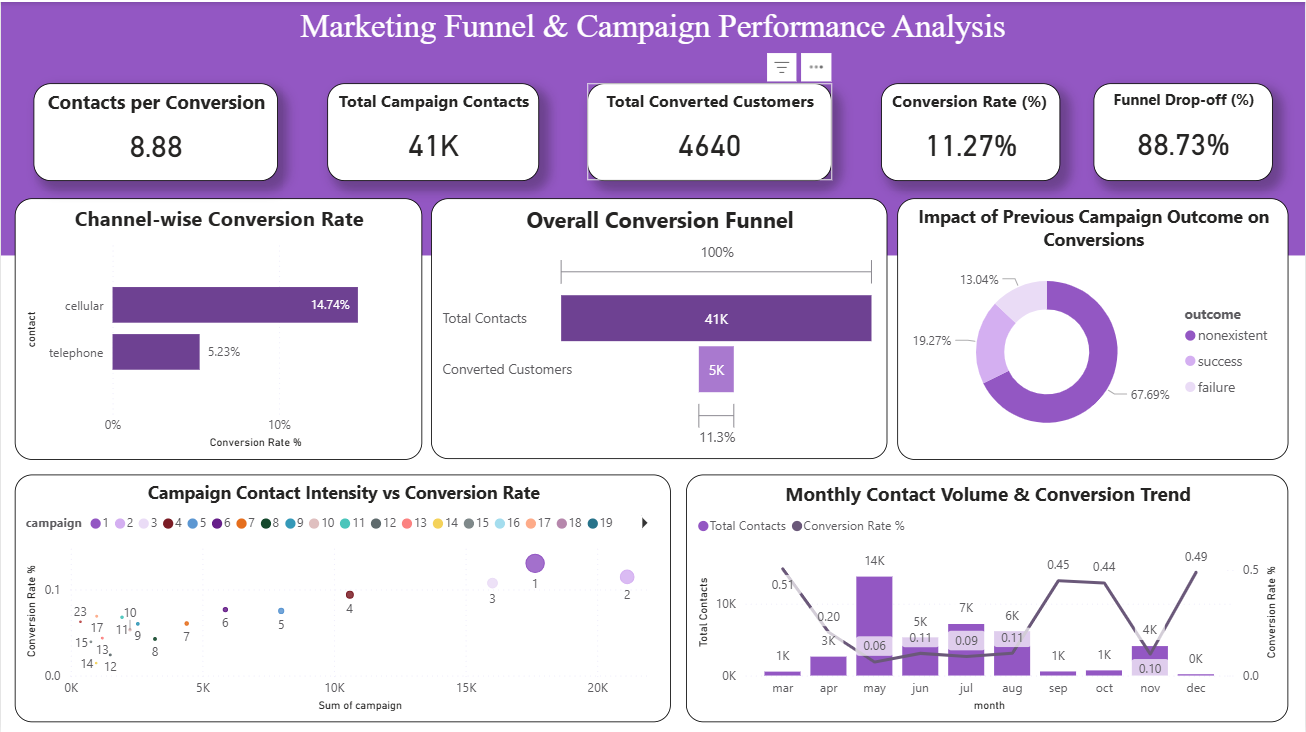

The dashboard page shown, as its layout file describes it:
{"tool":"powerbi","page":{"name":"Page 1","canvas":[1280,720],"ordinal":0},"visuals":[{"type":"textbox","box":[0,0,1279.8,249.1],"z":0},{"type":"card","title":"Total Campaign Contacts","fields":{"Values":["bank-additional-full.Total Contacts"]},"box":[320,80,208,96],"z":1000},{"type":"card","title":"Total Converted Customers","fields":{"Values":["bank-additional-full.Converted Customers"]},"box":[576,80,240,96],"z":2000},{"type":"card","title":"Conversion Rate (%)","fields":{"Values":["bank-additional-full.Conversion Rate %"]},"box":[864,80,176,96],"z":3000},{"type":"card","title":"Funnel Drop-off (%)","fields":{"Values":["bank-additional-full.Drop-off %"]},"box":[1072,80,176,96],"z":4000},{"type":"funnel","title":"Overall Conversion Funnel","fields":{"Y":["bank-additional-full.Total Contacts","bank-additional-full.Converted Customers"]},"box":[421.8,192.7,448.2,256.4],"z":5000},{"type":"clusteredBarChart","title":"Channel-wise Conversion Rate","fields":{"Category":["bank-additional-full.contact"],"Y":["bank-additional-full.Conversion Rate %"]},"box":[13.5,192.6,400,256.4],"z":6000},{"type":"lineStackedColumnComboChart","title":"Monthly Contact Volume & Conversion Trend","fields":{"Y":["bank-additional-full.Total Contacts"],"Y2":["bank-additional-full.Conversion Rate %"],"Category":["Month Table.month"]},"box":[672.4,463.8,591.4,242.9],"z":7000},{"type":"scatterChart","title":"Campaign Contact Intensity vs Conversion Rate","fields":{"Y":["bank-additional-full.Conversion Rate %"],"X":["Sum(bank-additional-full.campaign)"],"Size":["bank-additional-full.Converted Customers"],"Series":["bank-additional-full.campaign"]},"box":[13.5,463.8,644.2,242.9],"z":8000},{"type":"donutChart","title":"Impact of Previous Campaign Outcome on Conversions","fields":{"Category":["bank-additional-full.poutcome"],"Y":["bank-additional-full.Converted Customers"]},"box":[879.8,192.6,384.1,256.4],"z":9000},{"type":"card","title":"Contacts per Conversion","fields":{"Values":["Month Table.Avg Contacts per Conversion"]},"box":[32,80,240,96],"z":10000}]}

Visuals, with their boxes in screenshot pixels (x1, y1, x2, y2), scaled from the page's 1280x720 canvas onto the 1306x732 screenshot:
textbox: box(0, 0, 1305, 253)
"Total Campaign Contacts" card: box(326, 81, 539, 179)
"Total Converted Customers" card: box(588, 81, 833, 179)
"Conversion Rate (%)" card: box(882, 81, 1061, 179)
"Funnel Drop-off (%)" card: box(1094, 81, 1273, 179)
"Overall Conversion Funnel" funnel: box(430, 196, 888, 457)
"Channel-wise Conversion Rate" clusteredBarChart: box(14, 196, 422, 456)
"Monthly Contact Volume & Conversion Trend" lineStackedColumnComboChart: box(686, 472, 1289, 718)
"Campaign Contact Intensity vs Conversion Rate" scatterChart: box(14, 472, 671, 718)
"Impact of Previous Campaign Outcome on Conversions" donutChart: box(898, 196, 1290, 456)
"Contacts per Conversion" card: box(33, 81, 278, 179)
